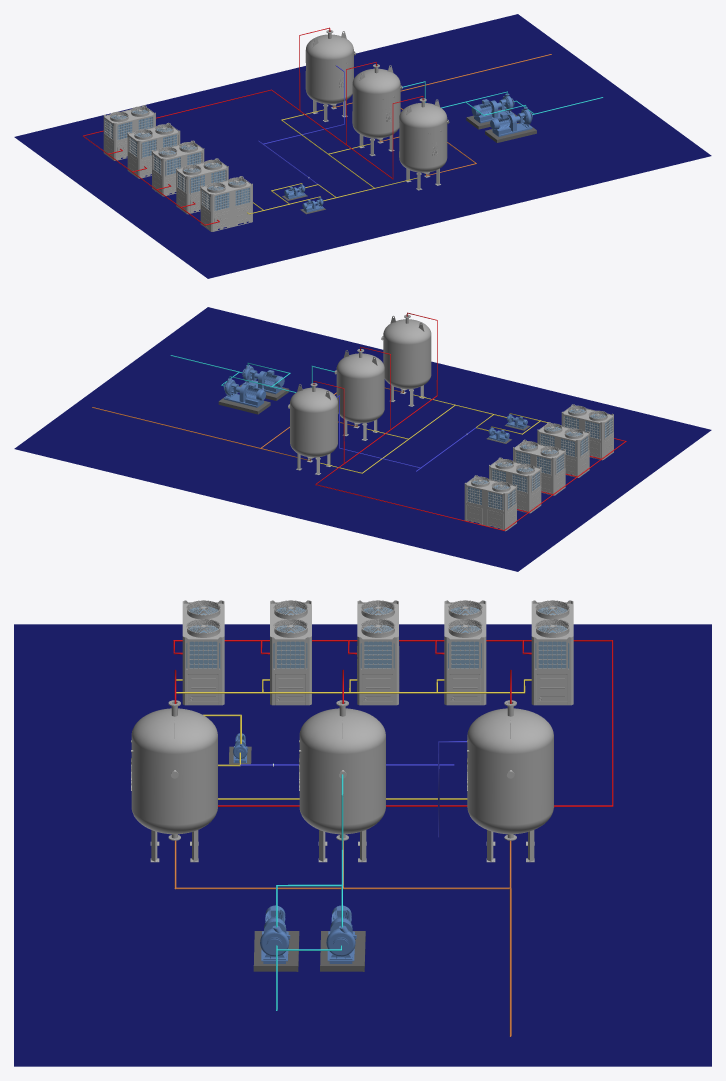
3 views of the same model, one above another, from view 1: azimuth 30°, elevation 25°; view 2: azimuth 150°, elevation 25°; view 3: azimuth 270°, elevation 25° (orthographic). The views are drawn at different scales.
Visible parts, largest first — view 1: 平面, 储水罐-1, 储水罐-2, 储水罐-3, 空气源热泵-1, 空气源热泵-4, 空气源热泵-5, 空气源热泵-3, 空气源热泵-2, 循环泵-1, 循环泵-2, 热泵回水.068; view 2: 平面, 储水罐-1, 储水罐-2, 储水罐-3, 空气源热泵-5, 空气源热泵-1, 空气源热泵-2, 空气源热泵-3, 空气源热泵-4, 循环泵-2, 循环泵-1, 热泵回水.068; view 3: 平面, 储水罐-3, 储水罐-1, 储水罐-2, 空气源热泵-5, 空气源热泵-4, 空气源热泵-1, 空气源热泵-3, 空气源热泵-2, 循环泵-2, 循环泵-1, 热泵回水.057 (+1 smaller).
Boxes of the visible parts, x1,y1,x2,y2 form: 平面: [14, 14, 711, 278]; 储水罐-1: [399, 98, 449, 190]; 储水罐-2: [352, 64, 402, 156]; 储水罐-3: [305, 30, 355, 121]; 空气源热泵-1: [200, 176, 252, 231]; 空气源热泵-4: [127, 122, 180, 178]; 空气源热泵-5: [103, 105, 155, 160]; 空气源热泵-3: [152, 140, 204, 196]; 空气源热泵-2: [176, 158, 228, 214]; 循环泵-1: [485, 107, 536, 142]; 循环泵-2: [466, 93, 516, 129]; 热泵回水.068: [83, 89, 299, 225]; 平面: [14, 307, 711, 571]; 储水罐-1: [381, 314, 431, 406]; 储水罐-2: [334, 349, 384, 440]; 储水罐-3: [288, 383, 337, 475]; 空气源热泵-5: [464, 475, 516, 531]; 空气源热泵-1: [561, 404, 613, 460]; 空气源热泵-2: [537, 422, 589, 477]; 空气源热泵-3: [513, 439, 565, 495]; 空气源热泵-4: [489, 457, 541, 513]; 循环泵-2: [218, 378, 270, 414]; 循环泵-1: [239, 365, 289, 400]; 热泵回水.068: [315, 441, 626, 530]; 平面: [14, 624, 711, 1066]; 储水罐-3: [467, 700, 553, 862]; 储水罐-1: [131, 700, 217, 862]; 储水罐-2: [299, 700, 385, 862]; 空气源热泵-5: [531, 600, 573, 705]; 空气源热泵-4: [444, 600, 486, 705]; 空气源热泵-1: [182, 600, 224, 705]; 空气源热泵-3: [357, 600, 399, 705]; 空气源热泵-2: [270, 600, 311, 705]; 循环泵-2: [320, 905, 365, 971]; 循环泵-1: [253, 905, 299, 971]; 热泵回水.057: [175, 887, 509, 889].
Size of the model in its own units: 24 by 3.95 by 16.
